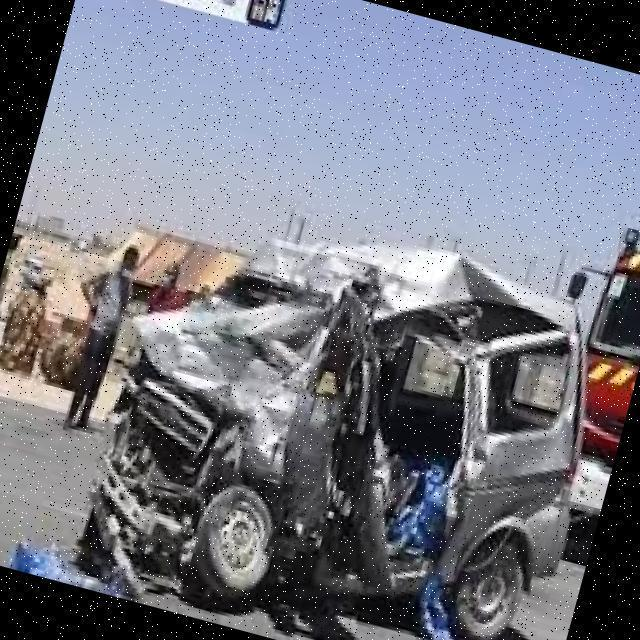accident: (35, 170, 634, 640)
